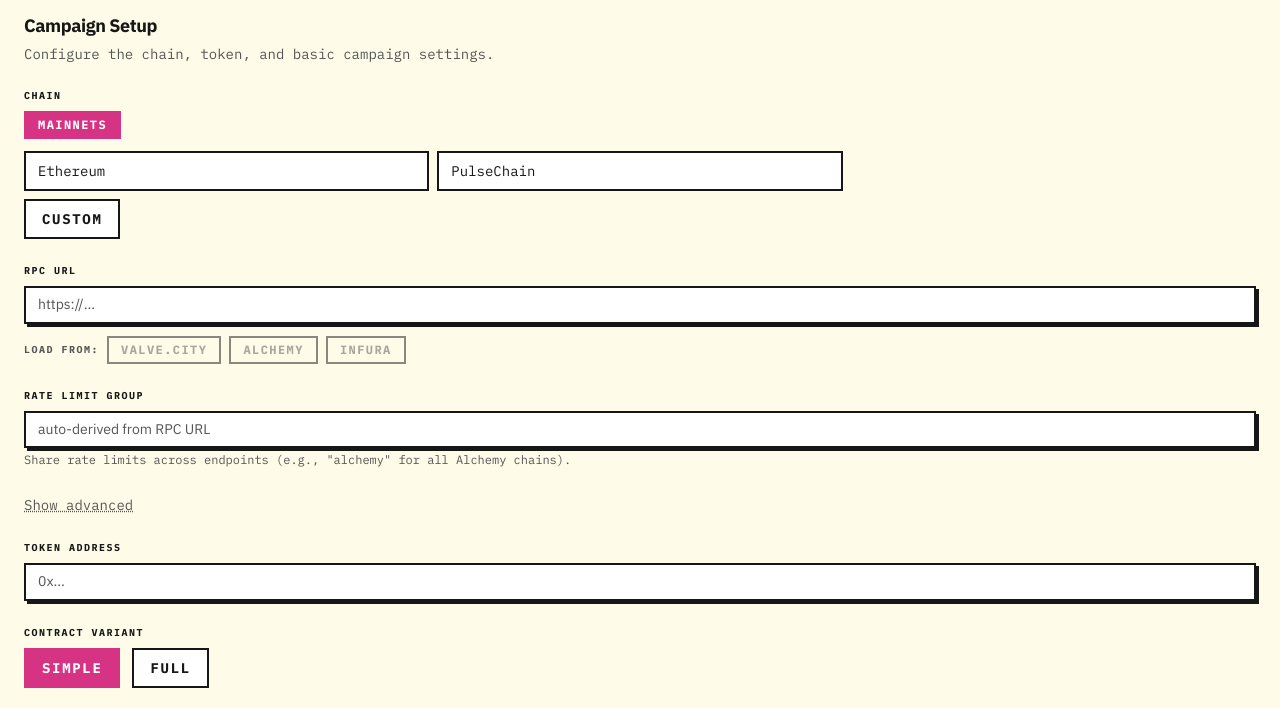
Test: CampaignStep › enables save button when chain and name are set
Click the button "Ethereum".
click(72, 171)  # box [24,151,429,191]
(page scrolled)
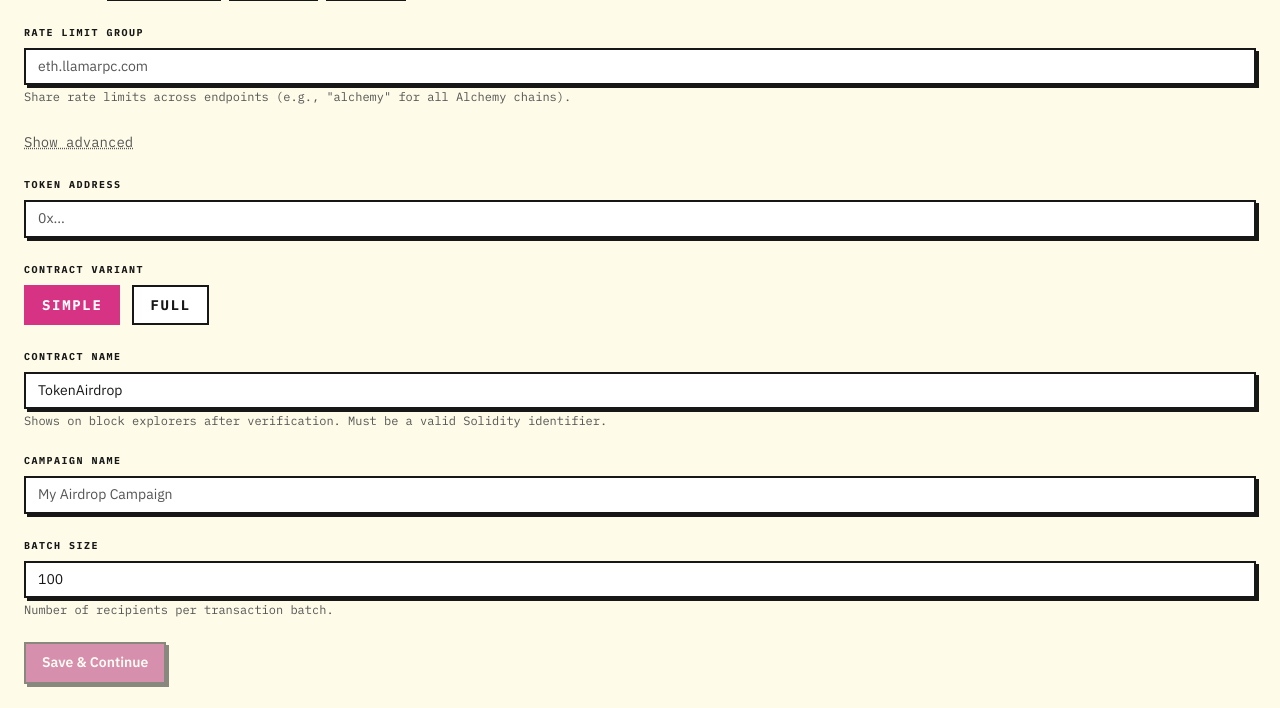
Type "Test Campaign" into the field with placeholder "My Airdrop Campaign".
click(640, 495); type("Test Campaign")  # box [24,476,1256,514]
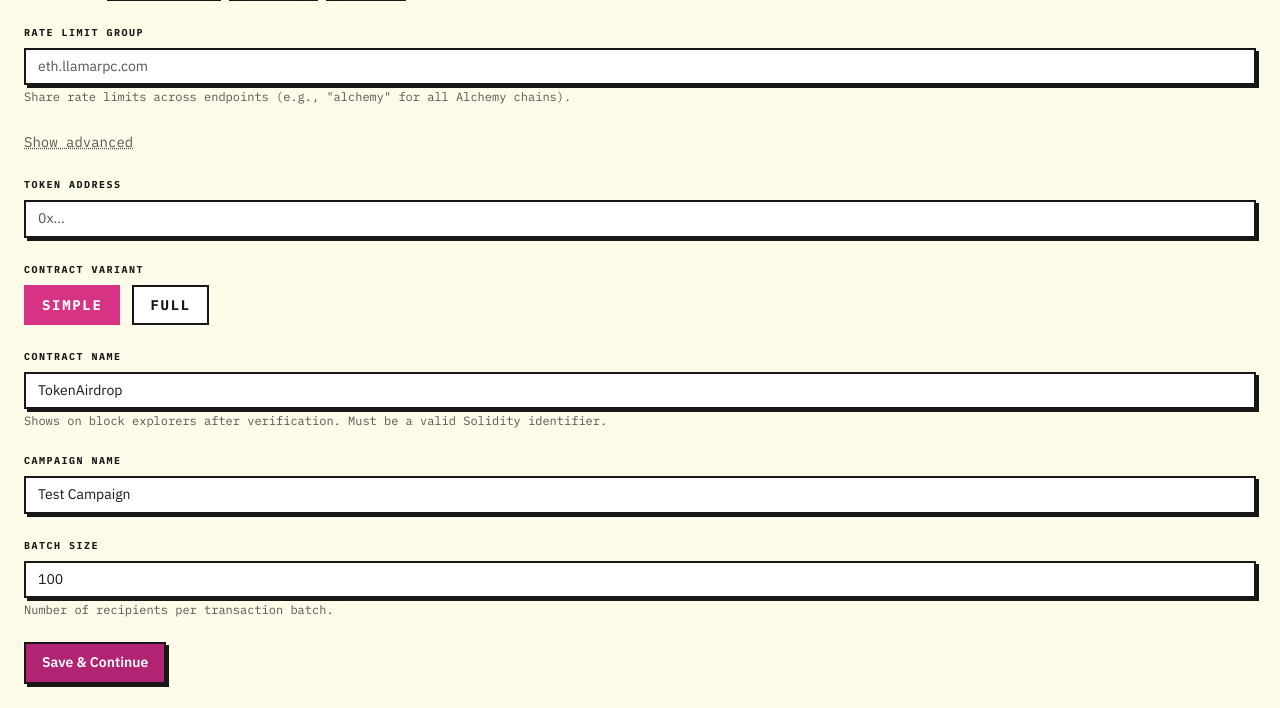
Expected: the button "Save & Continue" is enabled, [24,642,166,684]
